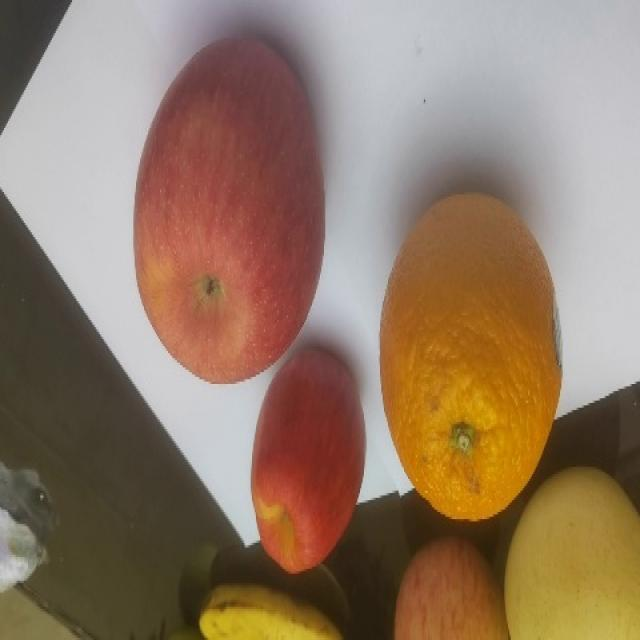Apple: (132, 35, 326, 384), (249, 345, 366, 574), (392, 535, 509, 639)
Orange: (378, 191, 562, 521)
